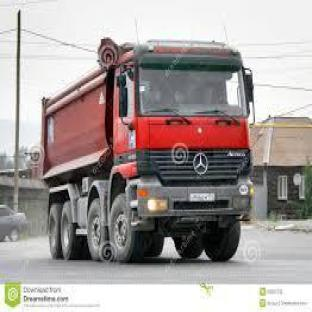Vehicle: (28, 62, 259, 257)
